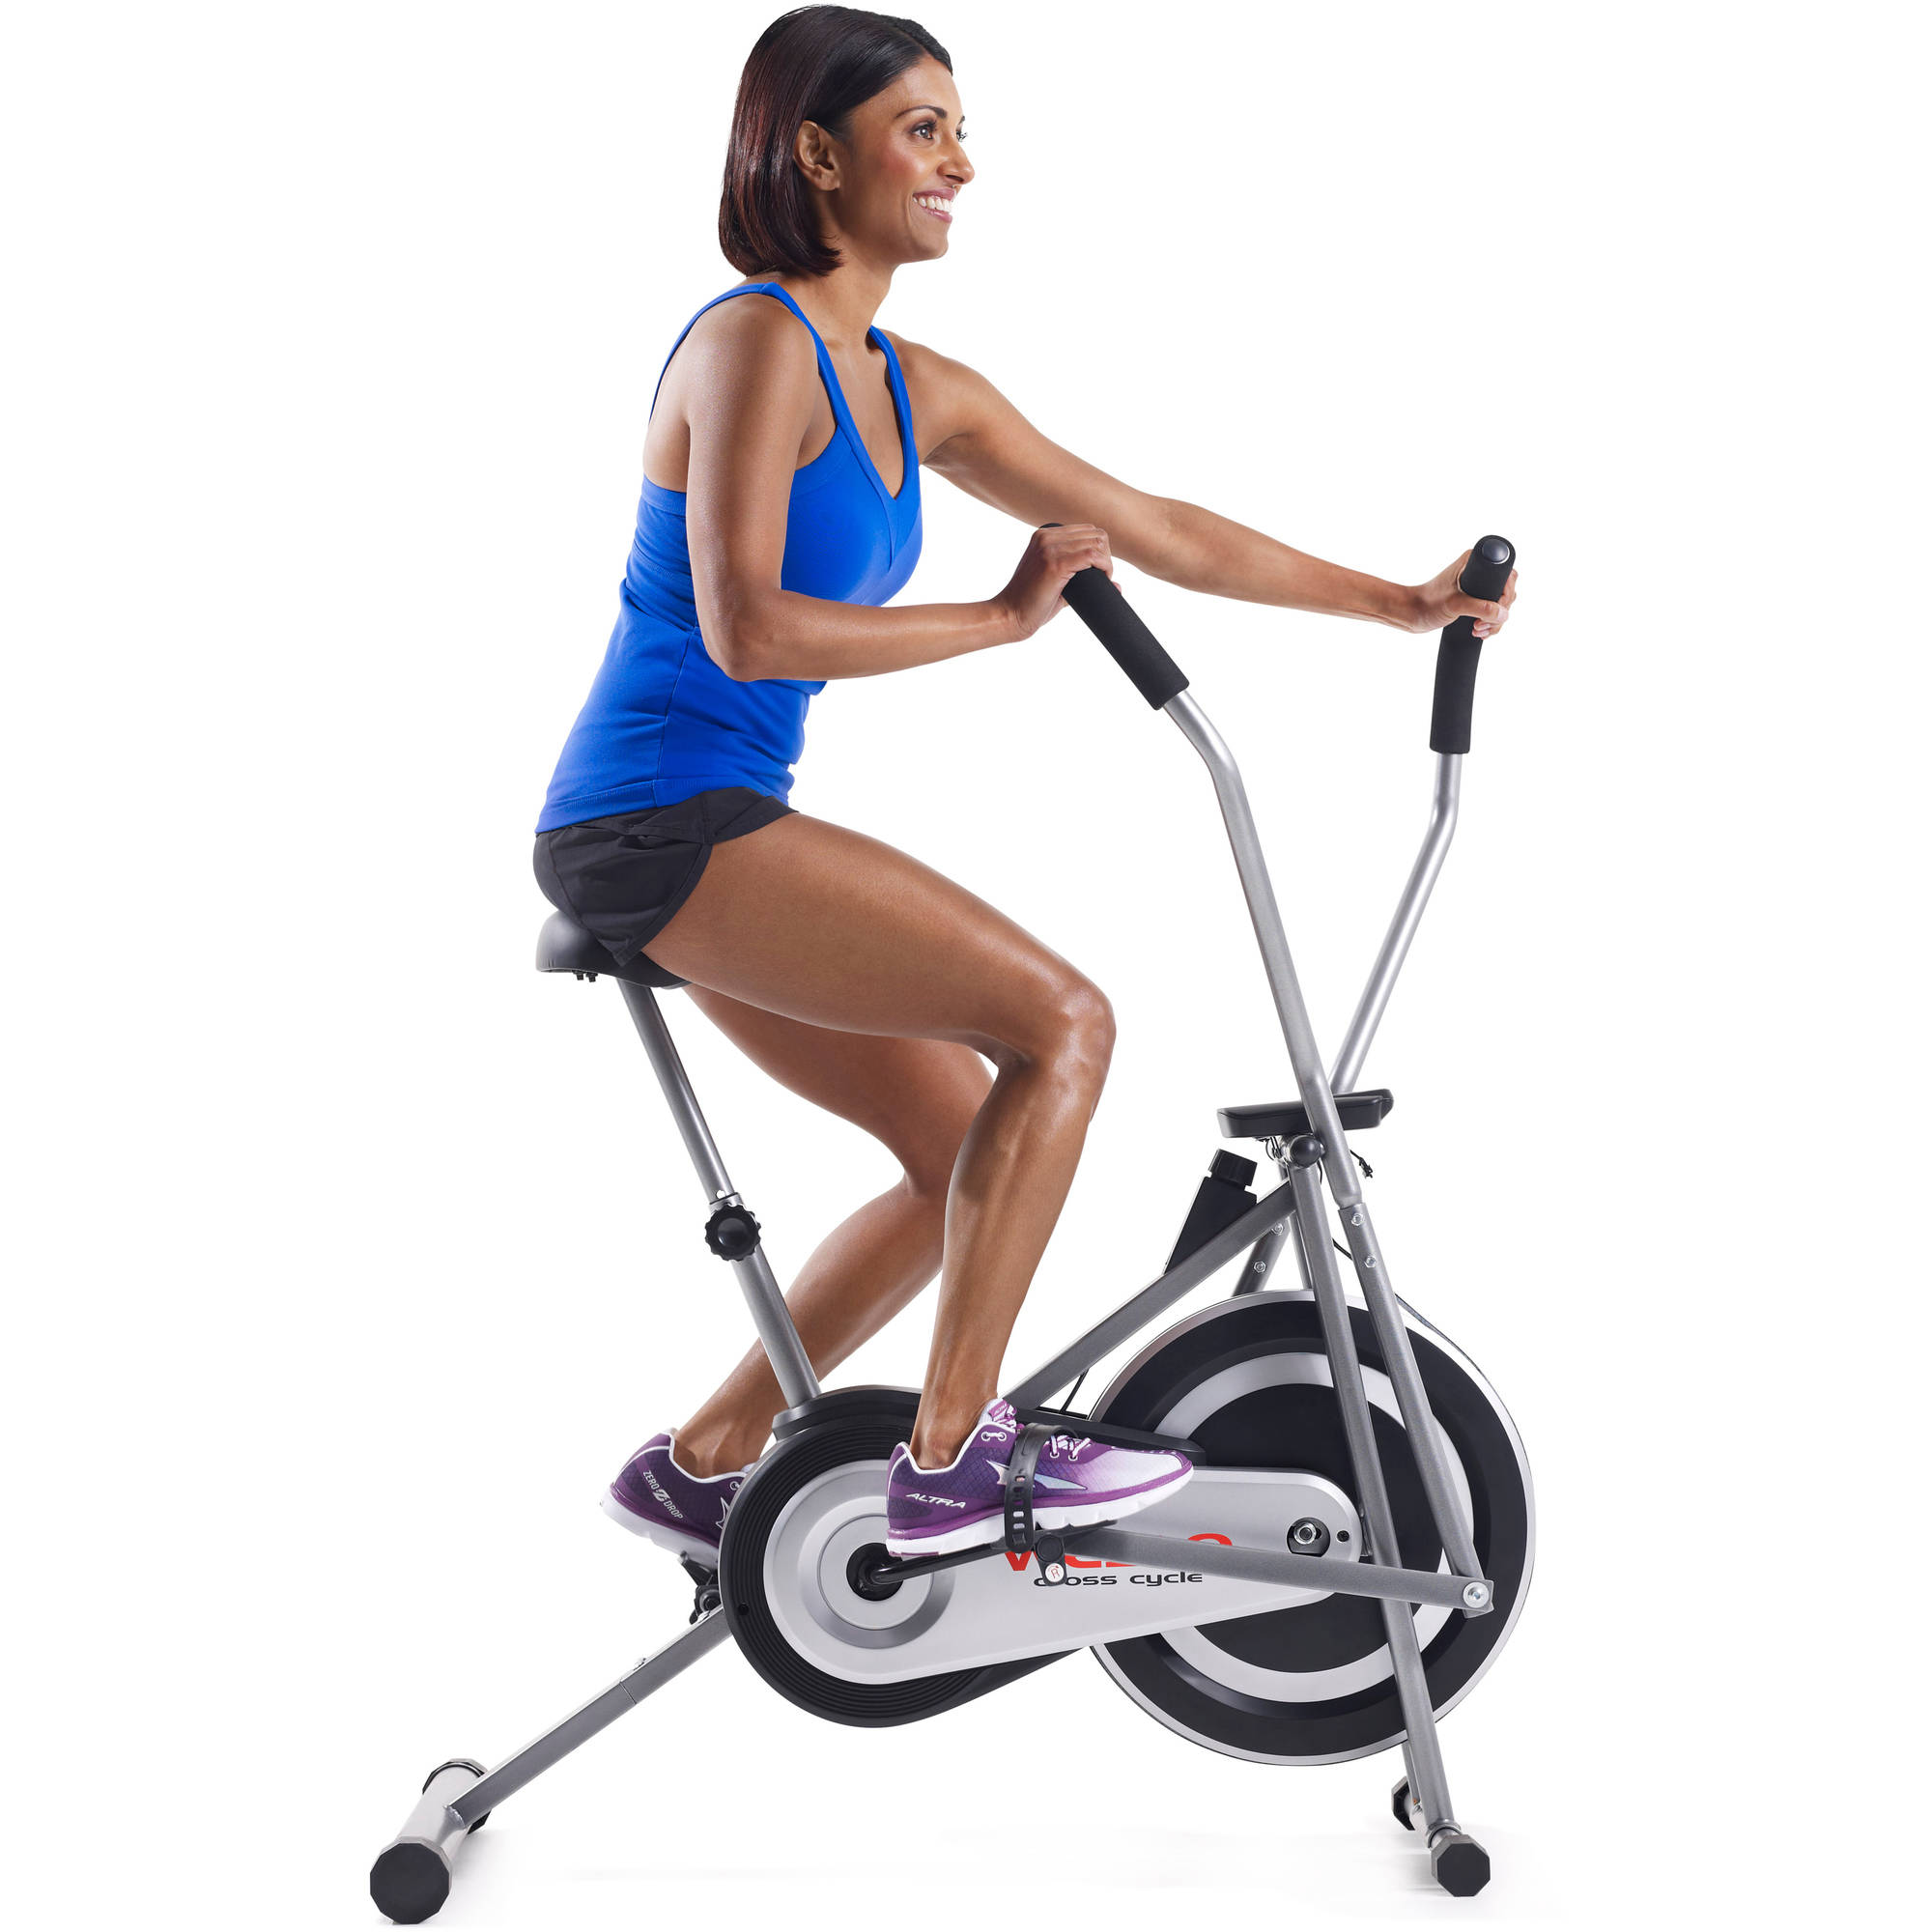gym_bike: (295, 531, 1552, 1932)
